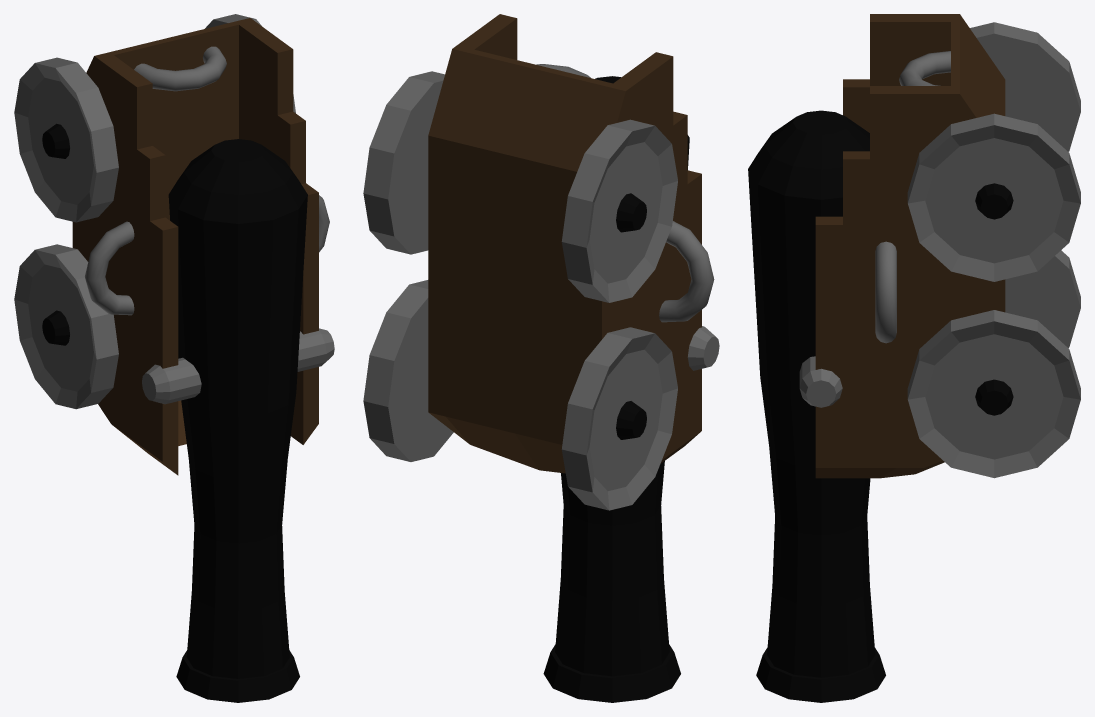
File: canhoOficial2.0.fbx
The picture shows the model from 3 angles, left to right: view 1: azimuth 30°, elevation 25°; view 2: azimuth 150°, elevation 25°; view 3: azimuth 270°, elevation 25°; orthographic projection. The views are drawn at different scales.
Parts seen in each view (by area): view 1: Cube.027, Cylinder.012; view 2: Cube.027, Cylinder.012; view 3: Cube.027, Cylinder.012.
Part boxes in pixels (<box>): Cube.027: <box>14,14,329,475</box>; Cylinder.012: <box>142,139,334,702</box>; Cube.027: <box>363,14,714,510</box>; Cylinder.012: <box>543,76,719,702</box>; Cube.027: <box>815,14,1080,478</box>; Cylinder.012: <box>748,110,885,702</box>.
Bounding box in the file's own units: 136 × 317 × 154.
